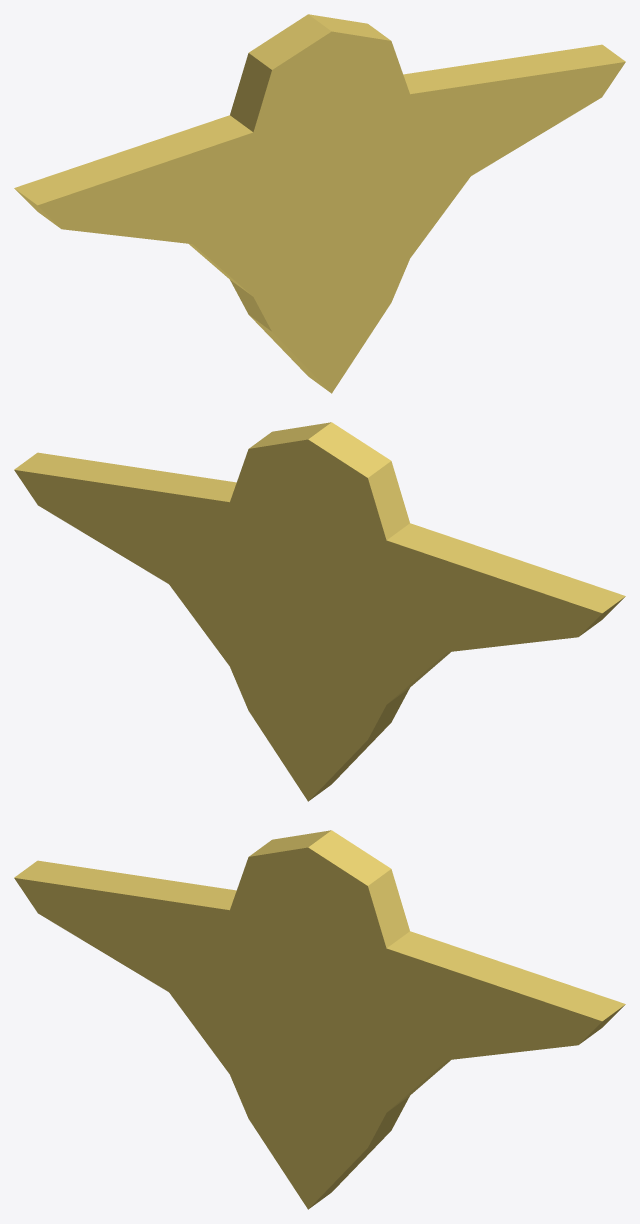
Rendered from marker.fbx.
3 renders of one model, top to bottom at view 1: azimuth 30°, elevation 25°; view 2: azimuth 150°, elevation 25°; view 3: azimuth 330°, elevation 25°, orthographic.
Visible parts, largest first — view 1: Cube; view 2: Cube; view 3: Cube.
Part boxes in pixels (x1,y1,x2,y2): Cube: (14, 14, 625, 393); Cube: (14, 422, 625, 801); Cube: (14, 830, 625, 1209).
Size of the model in its own units: 311 by 183 by 21.62.
